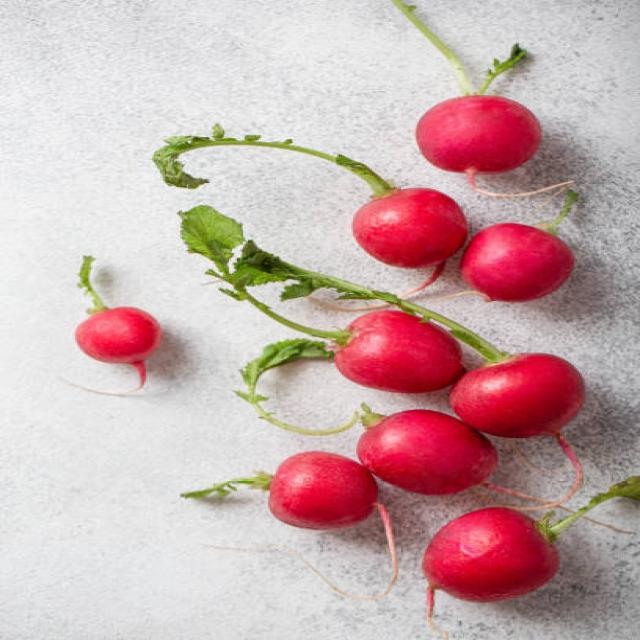Spinach bagged/loose: (418, 498, 564, 604), (412, 68, 547, 177), (342, 168, 468, 278), (306, 300, 459, 387), (357, 403, 503, 488), (252, 444, 382, 530), (466, 346, 596, 430), (459, 220, 583, 304), (77, 276, 167, 374)
